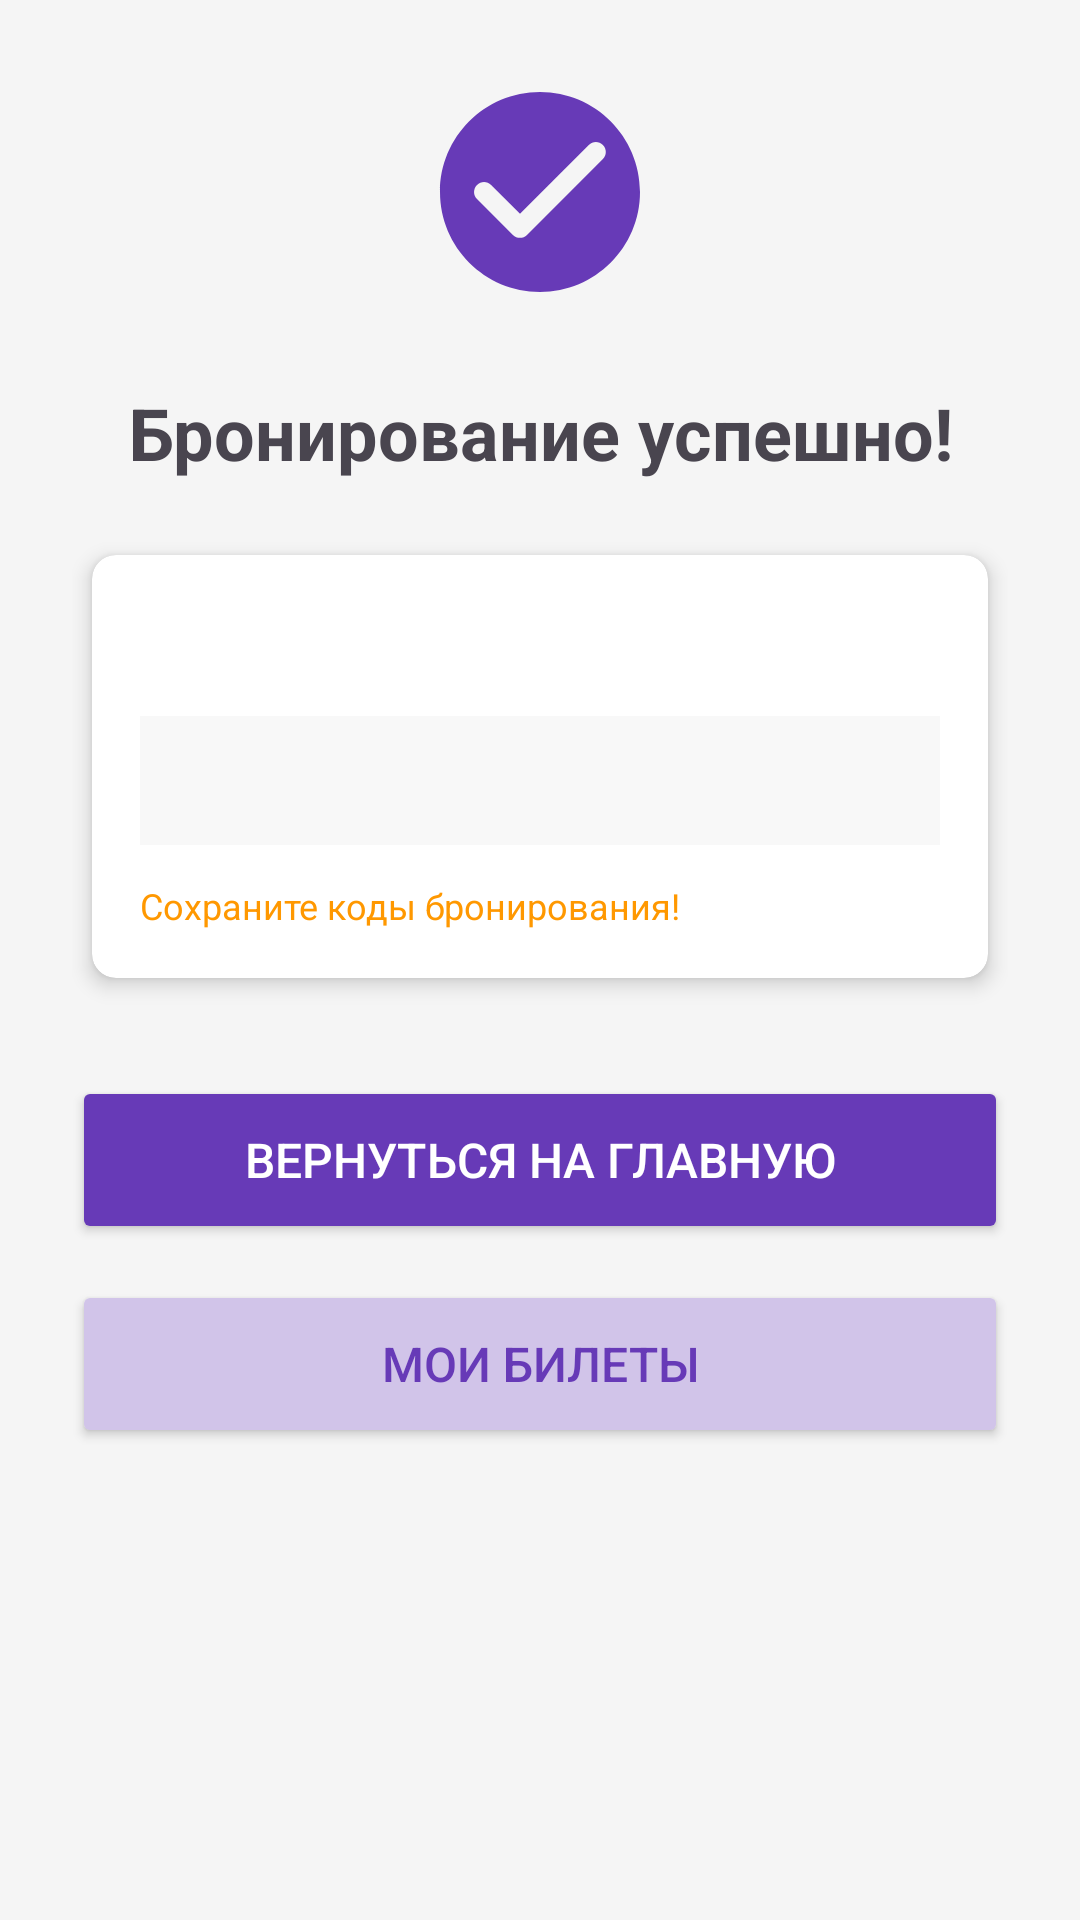

Locate icon controls on the screen. Image size 1080 x 1920, boxes as (x1, y1, x2, y2).
success: (440, 92, 640, 292)
